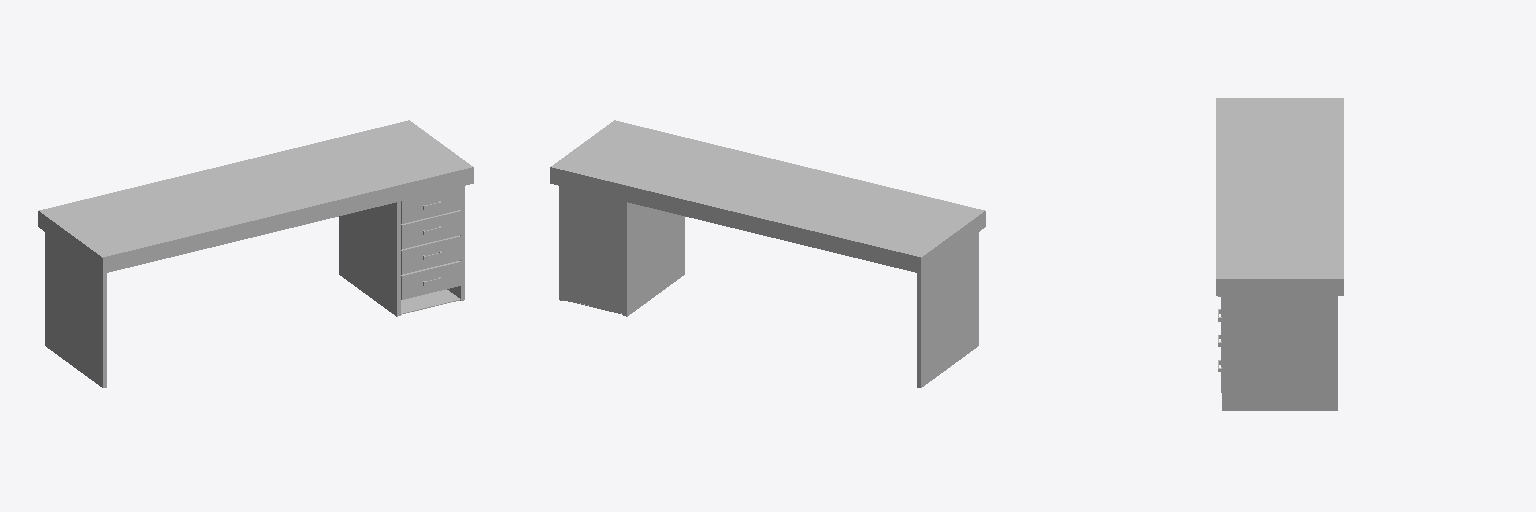
The model's file is escritorio.obj.
3 renders of one model, left to right at view 1: azimuth 30°, elevation 25°; view 2: azimuth 150°, elevation 25°; view 3: azimuth 270°, elevation 25°, orthographic.
Parts seen in each view (by area): view 1: Desk_Cube, Drawer_4_Cube.018, Drawer_3_Cube.017, Drawer_2_Cube.016, Drawer_1_Cube.015; view 2: Desk_Cube; view 3: Desk_Cube.
Part boxes in pixels (bbox=[...]): Desk_Cube: bbox=[38, 120, 473, 387]; Drawer_4_Cube.018: bbox=[401, 261, 460, 299]; Drawer_3_Cube.017: bbox=[401, 235, 460, 274]; Drawer_2_Cube.016: bbox=[401, 210, 460, 249]; Drawer_1_Cube.015: bbox=[401, 187, 460, 223]; Desk_Cube: bbox=[550, 120, 985, 387]; Desk_Cube: bbox=[1216, 98, 1343, 410].
Size of the model in its own units: 3.98 by 1.38 by 1.19.